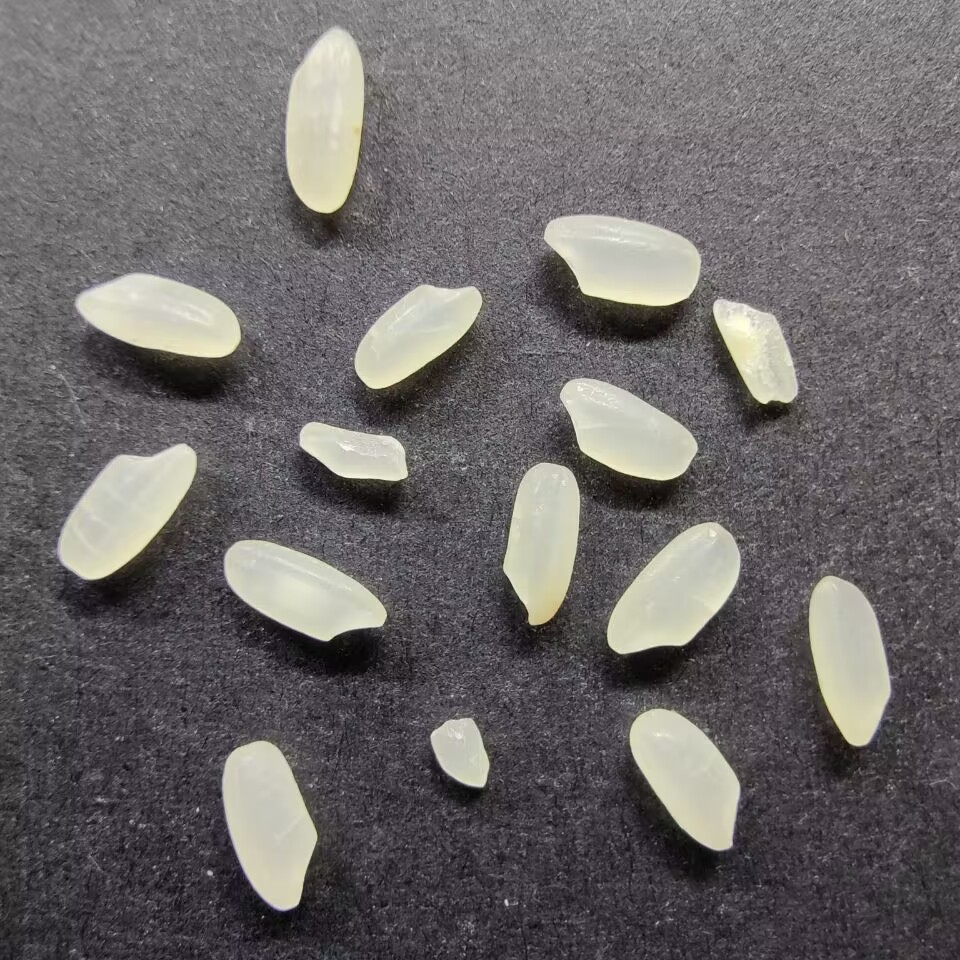broken: (711, 296, 799, 406), (297, 418, 410, 483), (430, 717, 490, 792)
rice: (53, 441, 200, 581), (605, 519, 741, 656), (223, 739, 326, 913), (220, 537, 386, 643), (626, 705, 742, 853), (283, 24, 365, 216), (540, 213, 702, 308), (72, 272, 244, 360), (806, 572, 891, 748), (559, 377, 699, 482), (351, 281, 483, 389), (500, 463, 581, 627)
